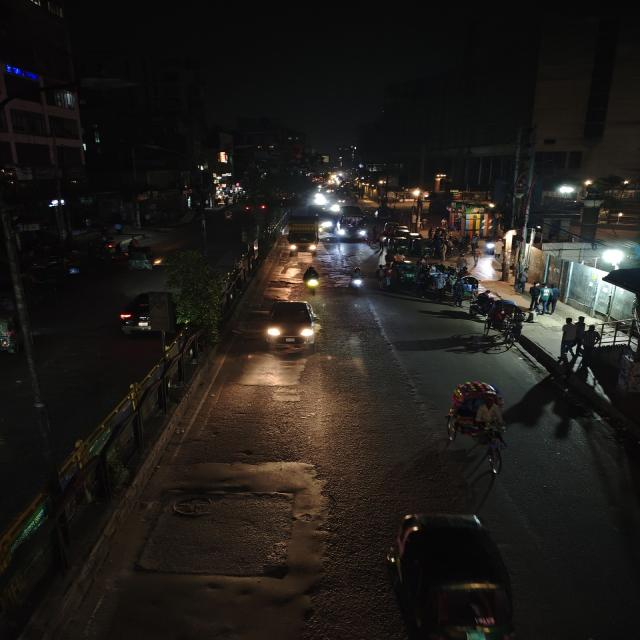bus: (336, 204, 369, 242)
car: (263, 298, 323, 354), (117, 290, 158, 336)
cng: (384, 508, 523, 640), (125, 245, 160, 272)
motorcycle: (300, 265, 323, 295), (346, 264, 368, 294)
pedestrian: (559, 316, 580, 360), (430, 274, 450, 303), (527, 281, 544, 310), (541, 285, 557, 315), (372, 263, 389, 290), (512, 268, 526, 294), (471, 246, 484, 266), (575, 314, 590, 329)
rickshaw: (439, 379, 515, 473), (478, 302, 526, 348)
truck: (283, 207, 321, 253)
